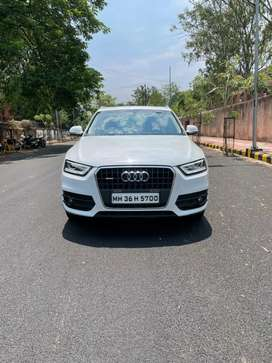MH36H5700: (110, 192, 159, 202)
